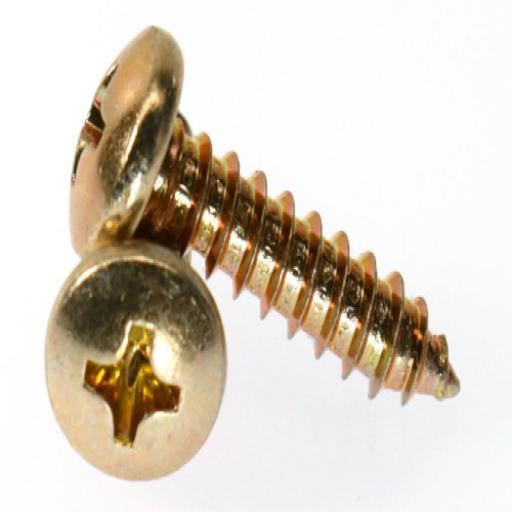Phillips: (48, 243, 229, 484)
